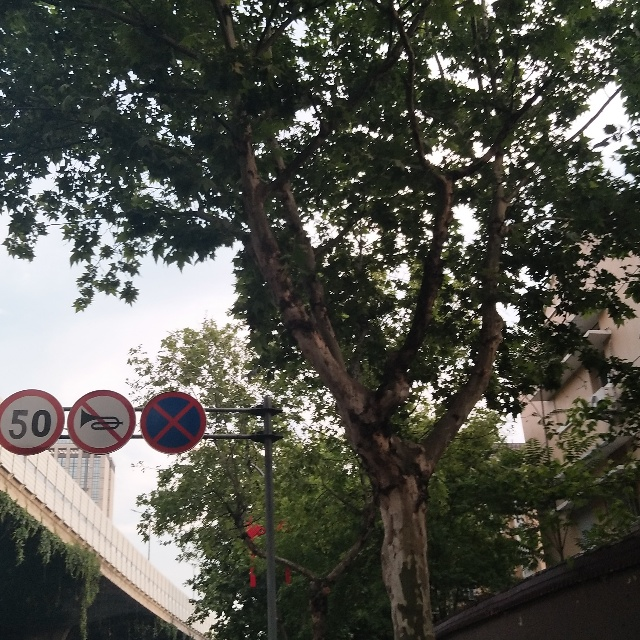nohonk: (71, 395, 130, 446)
stop: (144, 394, 201, 448)
